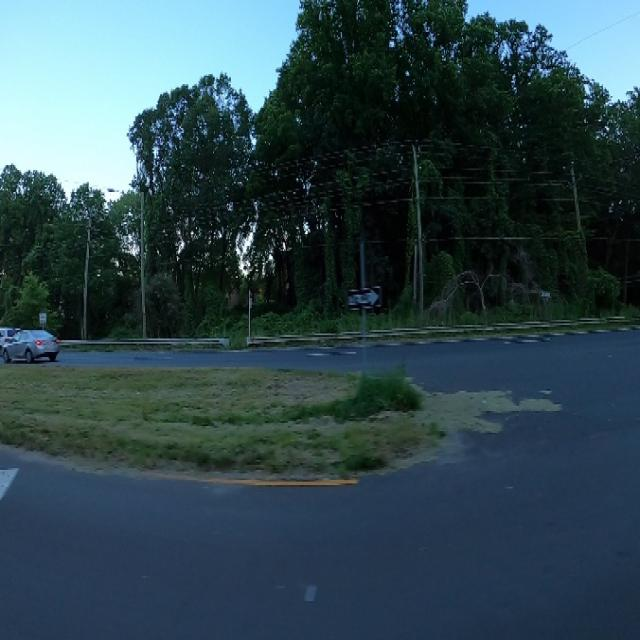cars: (5, 314, 64, 368), (0, 316, 18, 361)
